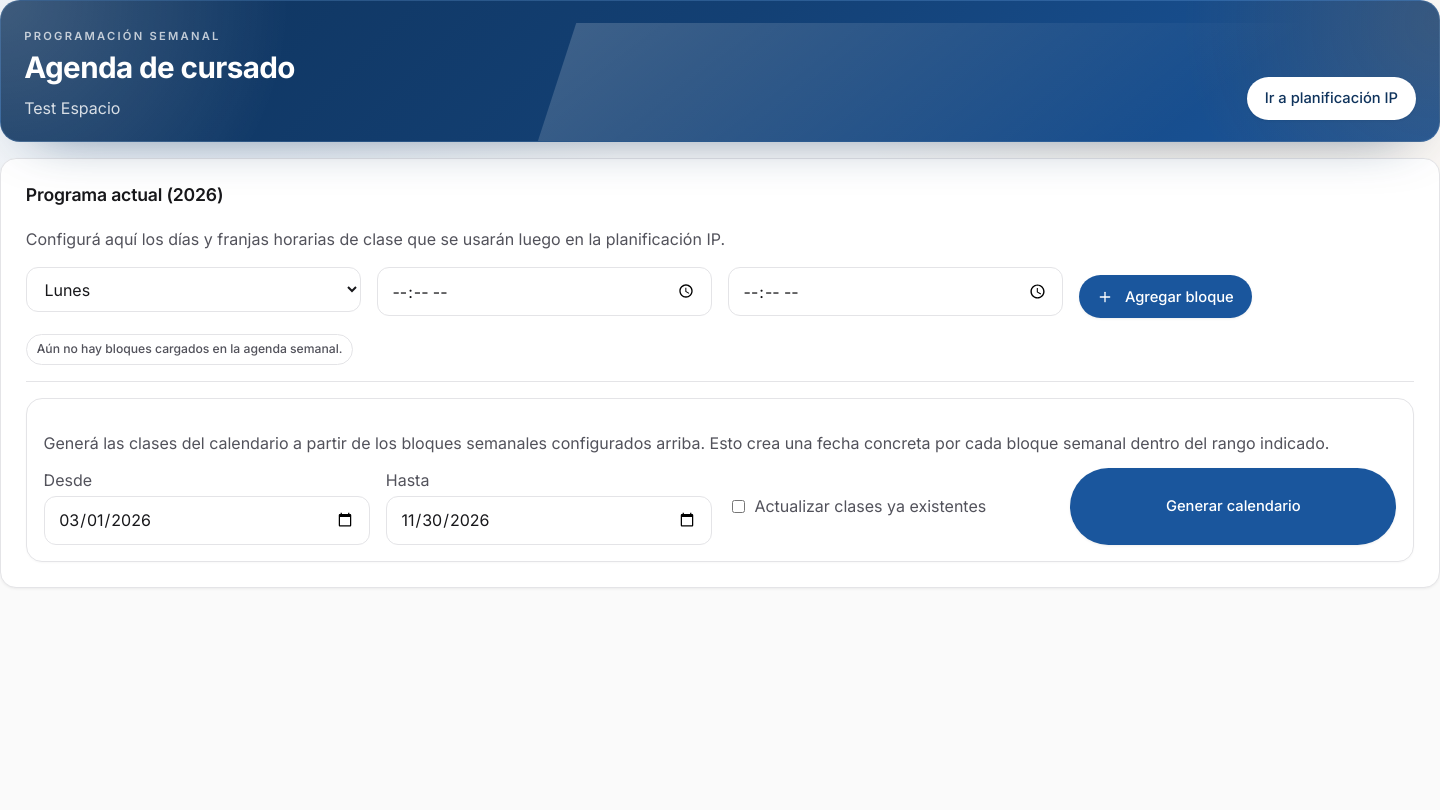
Test: DocenteDiasCursado › validates that finish time must be after start time
Expected: the button "Agregar bloque" is shown, left=1079, top=275, right=1252, bottom=318
Select "Lunes" in the dropdown at (193, 290), box left=26, top=267, right=361, bottom=312
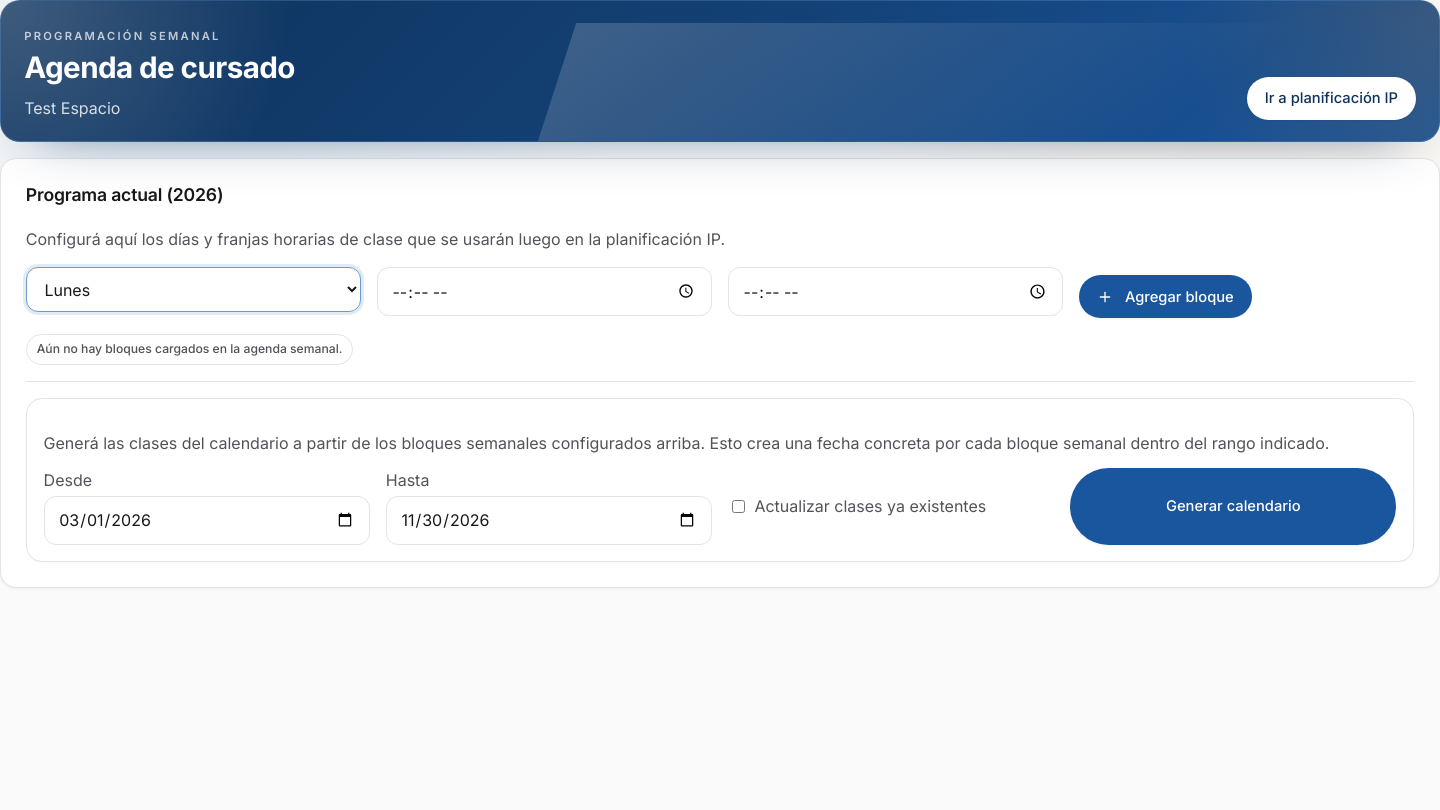
Type "10:00" into the 1st time field at (544, 292), box left=377, top=267, right=712, bottom=316
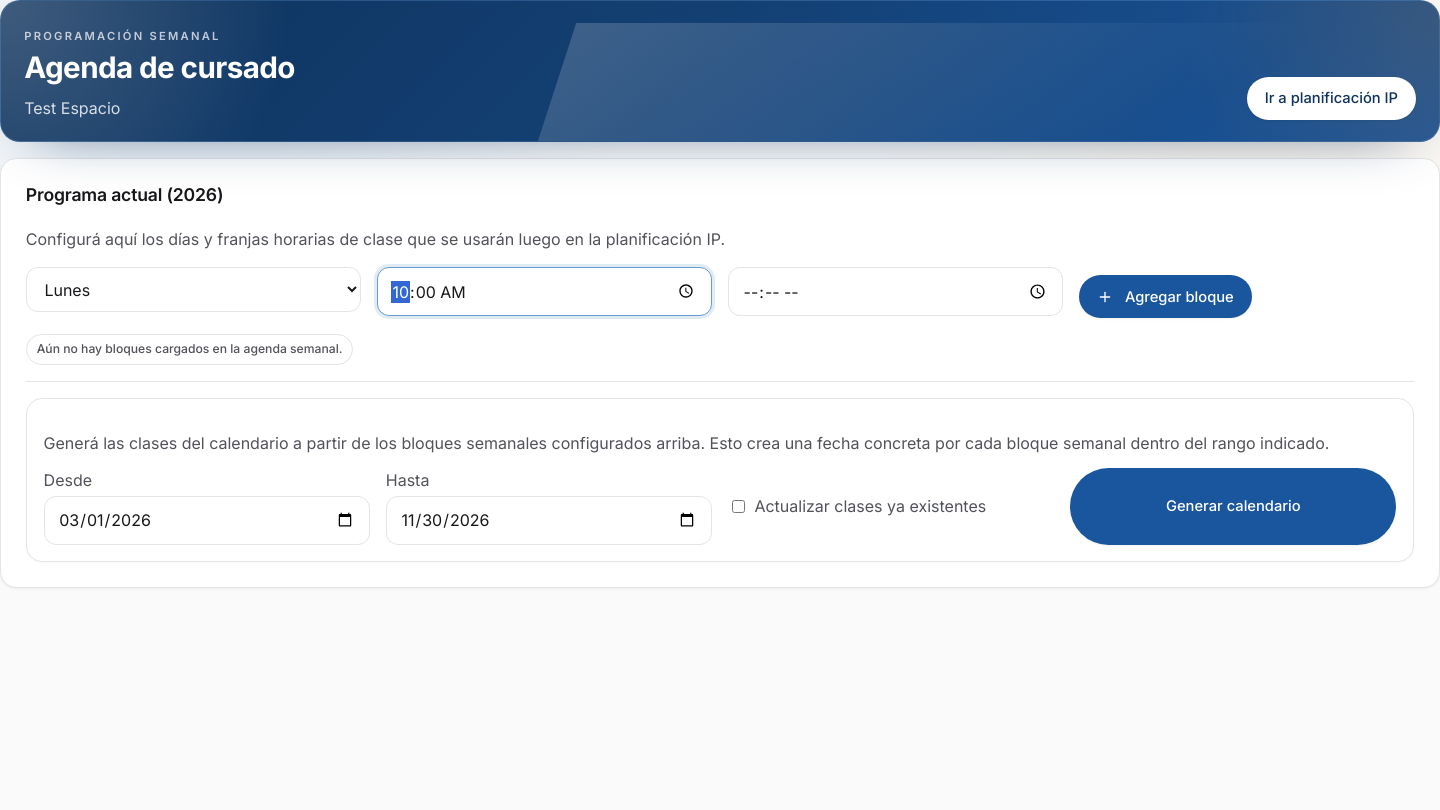
Type "09:00" into the 2nd time field at (896, 292), box left=728, top=267, right=1063, bottom=316
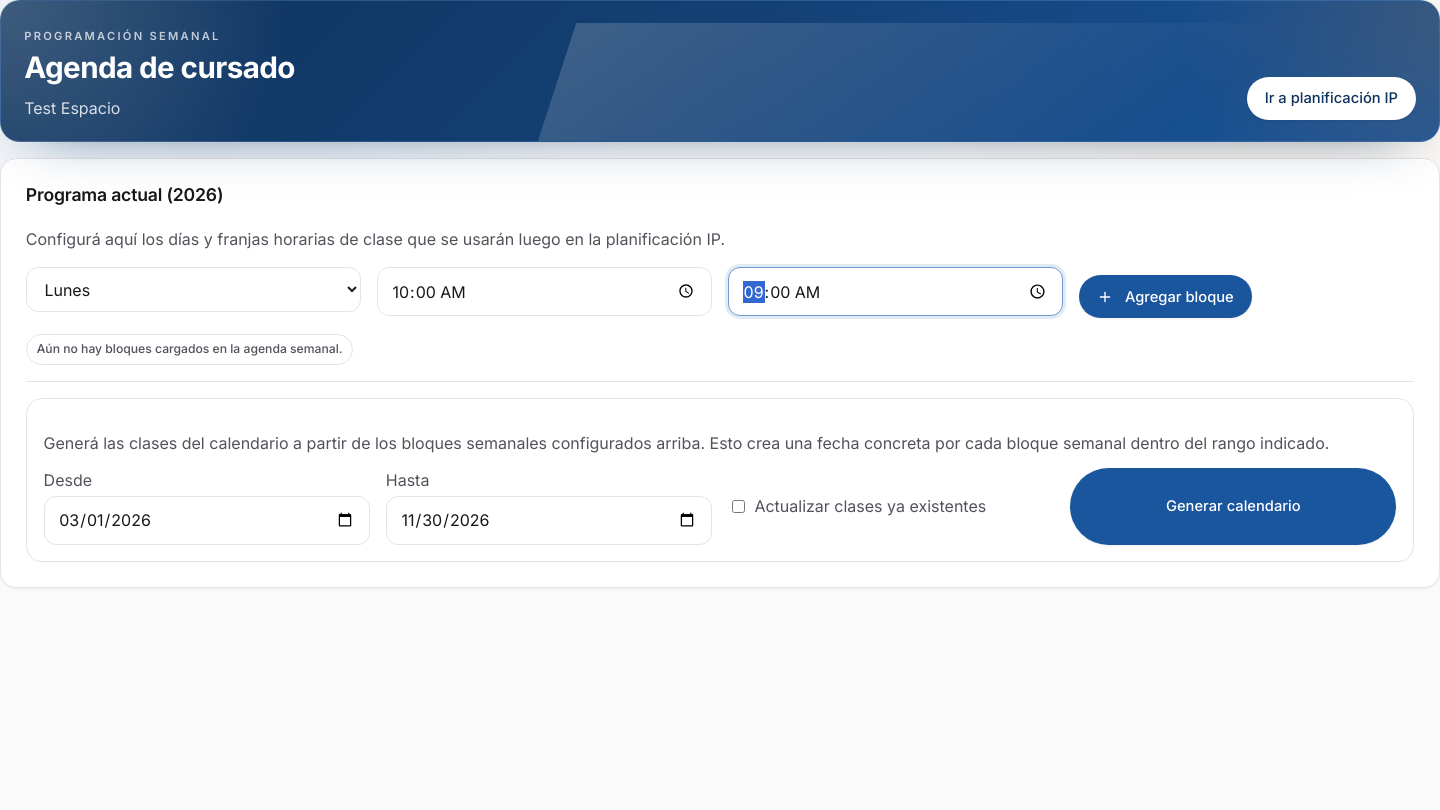
Click the button "Agregar bloque" at (1165, 297), box left=1079, top=275, right=1252, bottom=318
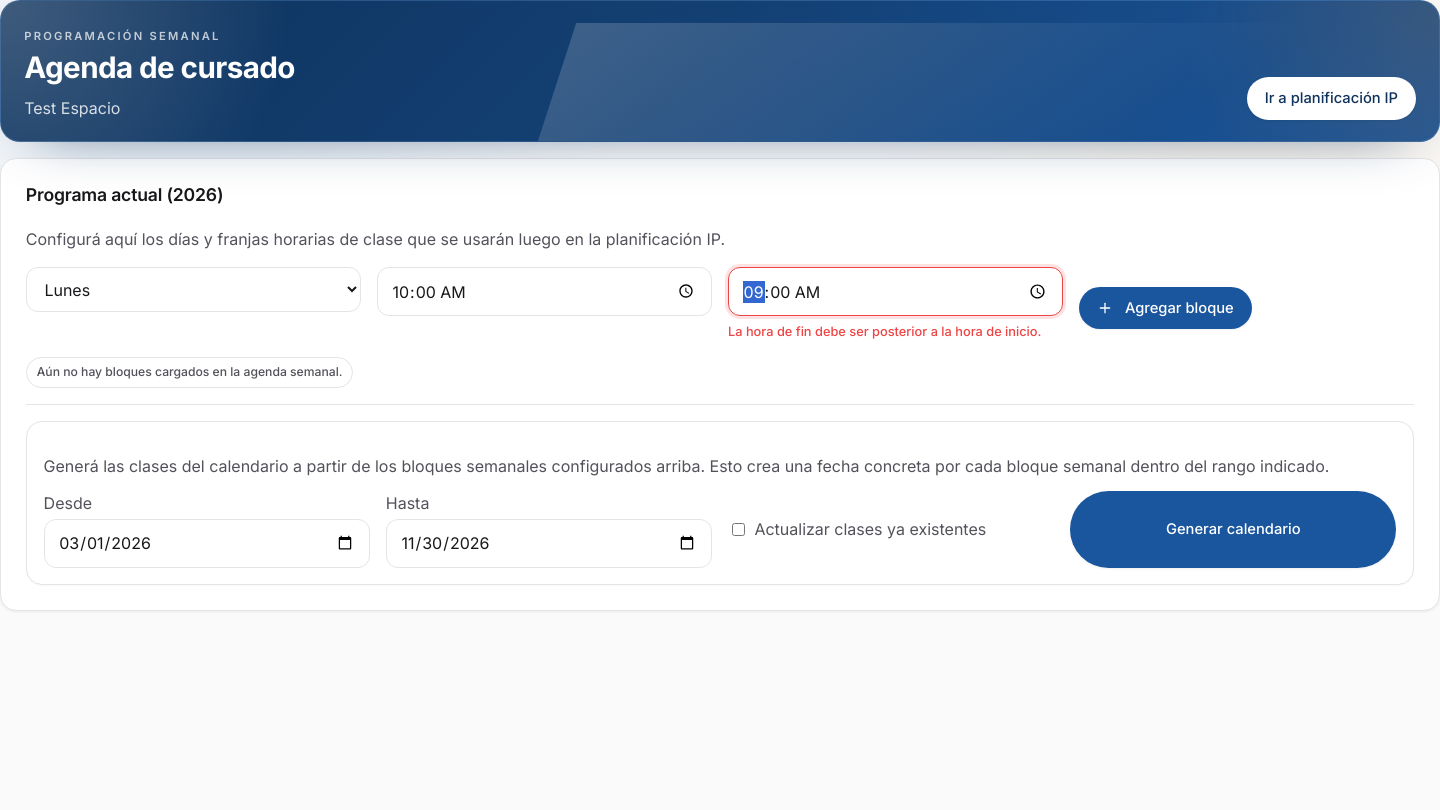
Expected: the text "La hora de fin debe ser posterior a la hora de inicio." is shown, left=728, top=322, right=1063, bottom=341
